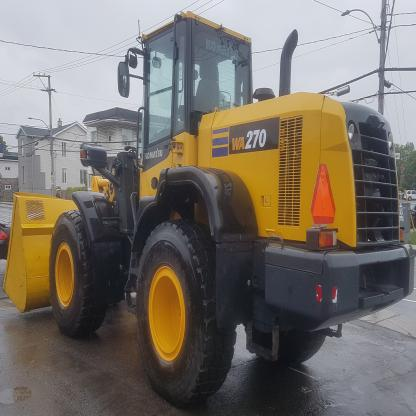bull_dozer/loader/grader: (6, 6, 416, 416)
